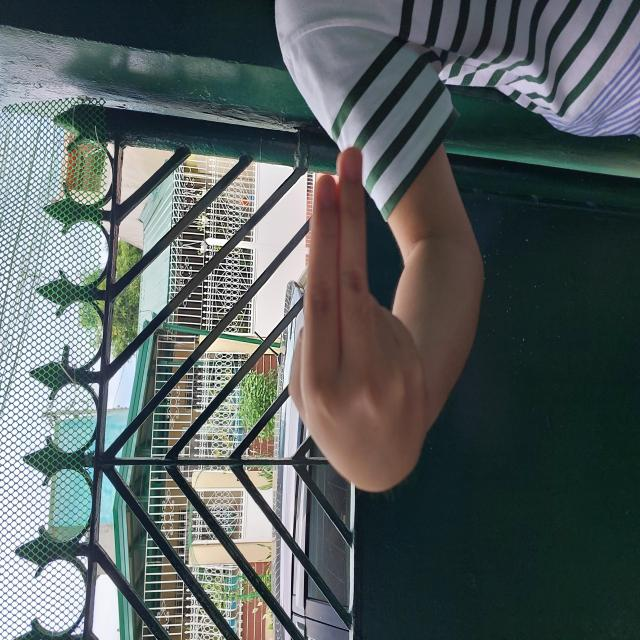H: (145, 285, 495, 431)
